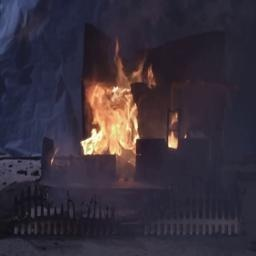fire: (81, 55, 152, 164)
